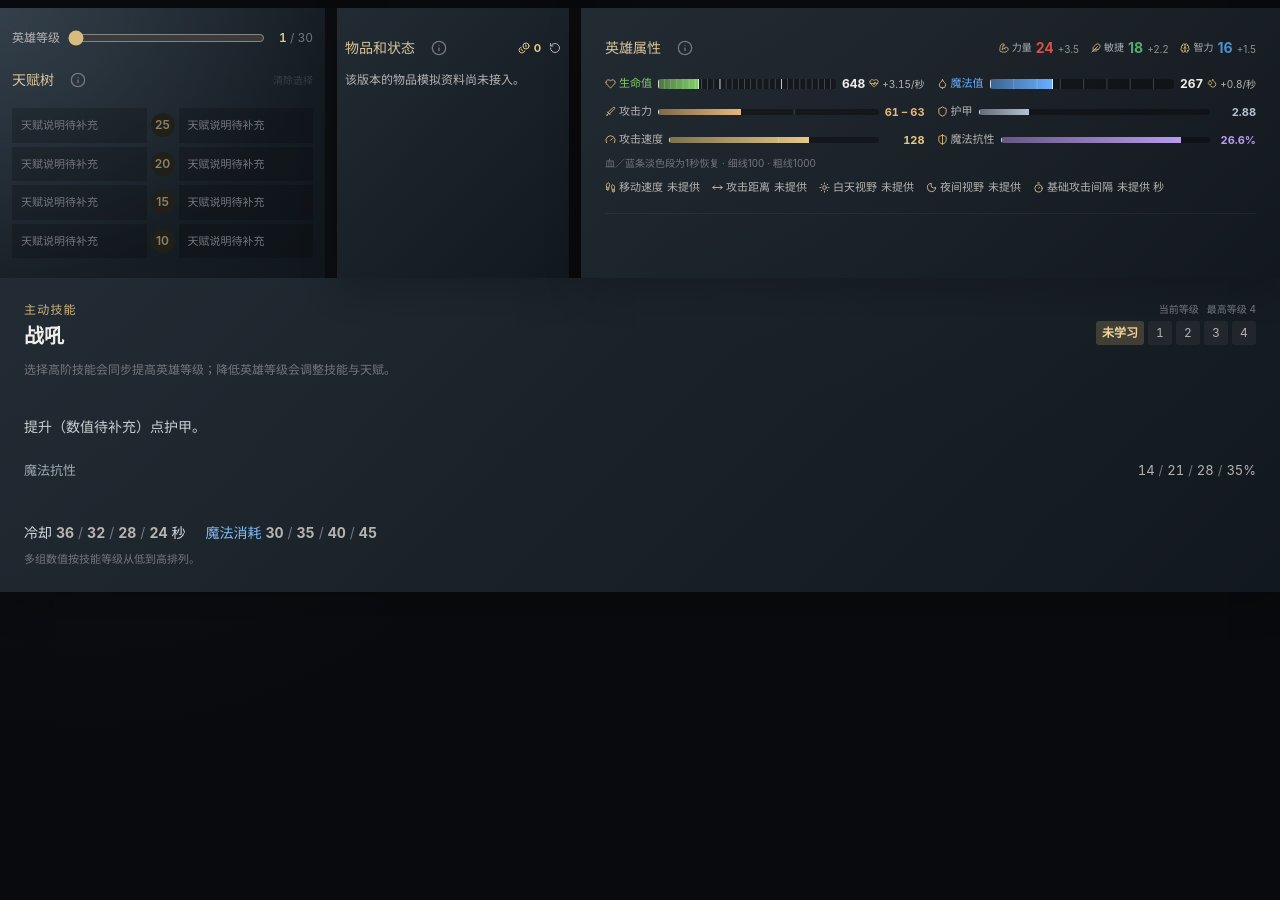
Test: keeps all ranks visible while shared levels and permanent stats change in both directions
Expected: the element showing "14 / 21 / 28 / 35%" is shown, [1138,461,1256,480]
Click the radio button labelled "4" at (1244, 333), box [1232,321,1256,345]
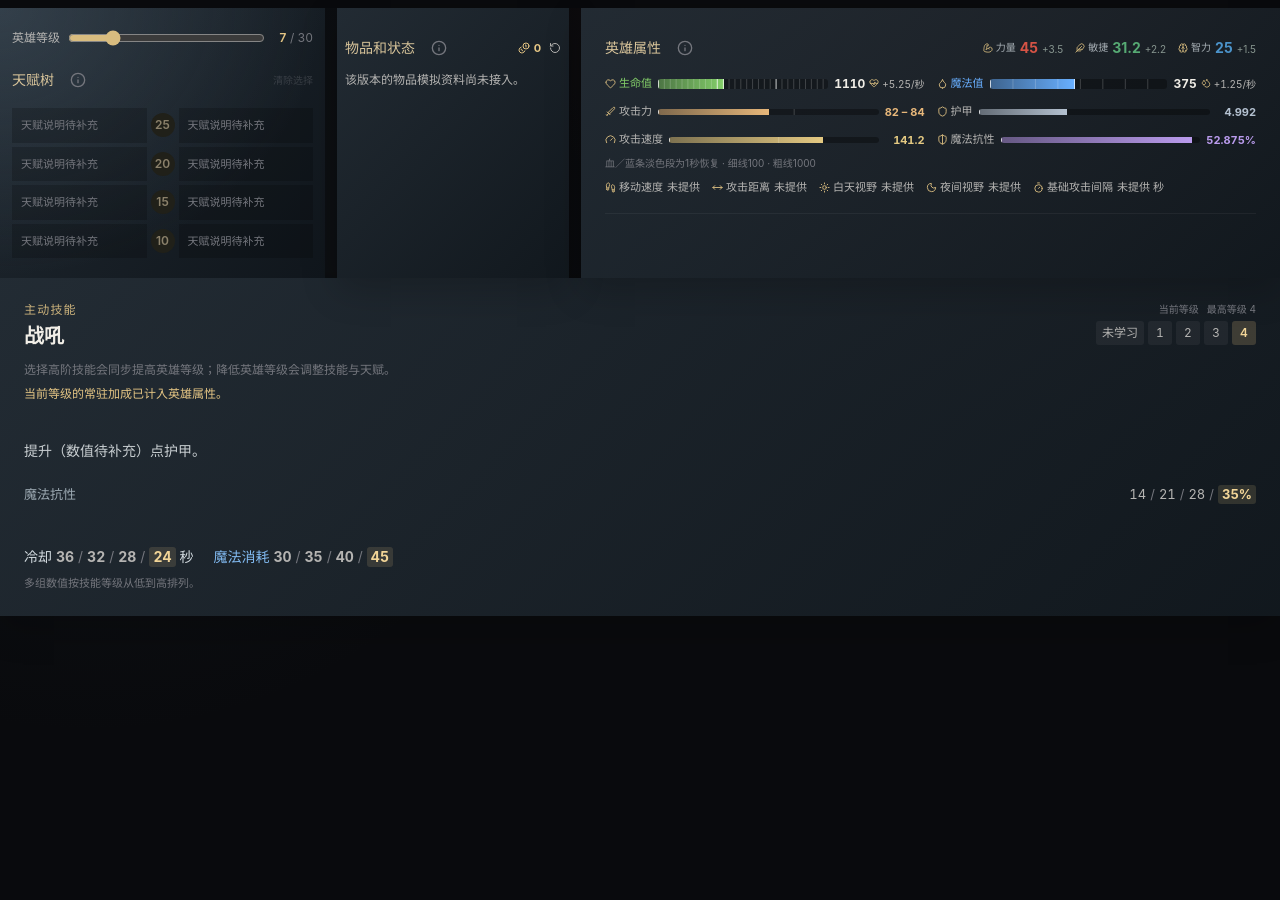
Expected: the text "35%" is shown, [1218,485,1256,504]
Expected: the slider holds "7"
Expected: the text "52.875%" is shown, [1206,132,1256,148]
Set the slider to "1" at (76, 38), box [68,28,265,48]
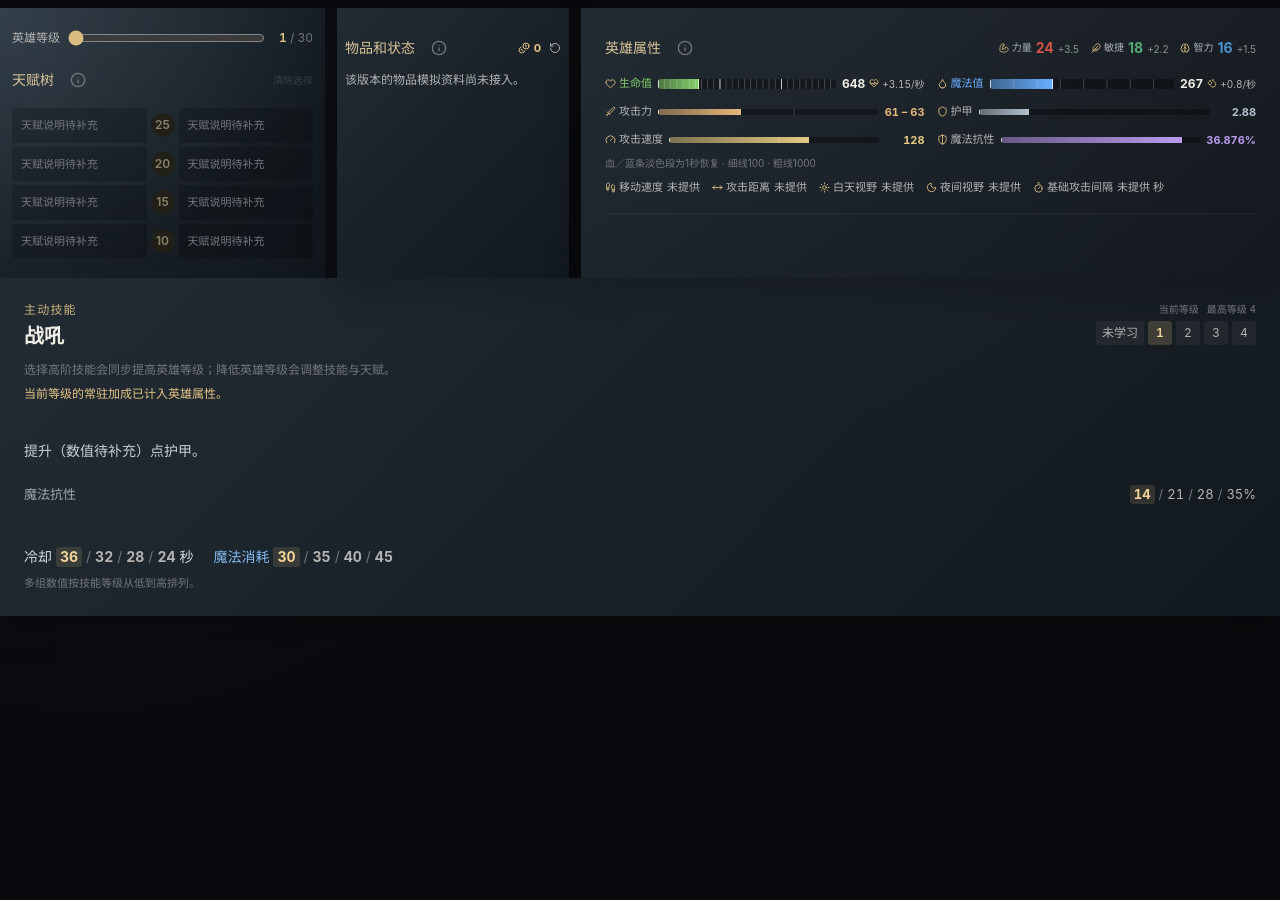
Expected: the text "14" is shown, [1130,485,1155,504]
Expected: the text "36.876%" is shown, [1206,132,1256,148]
Click the radio button labelled "未学习" at (1120, 333), box [1096,321,1144,345]
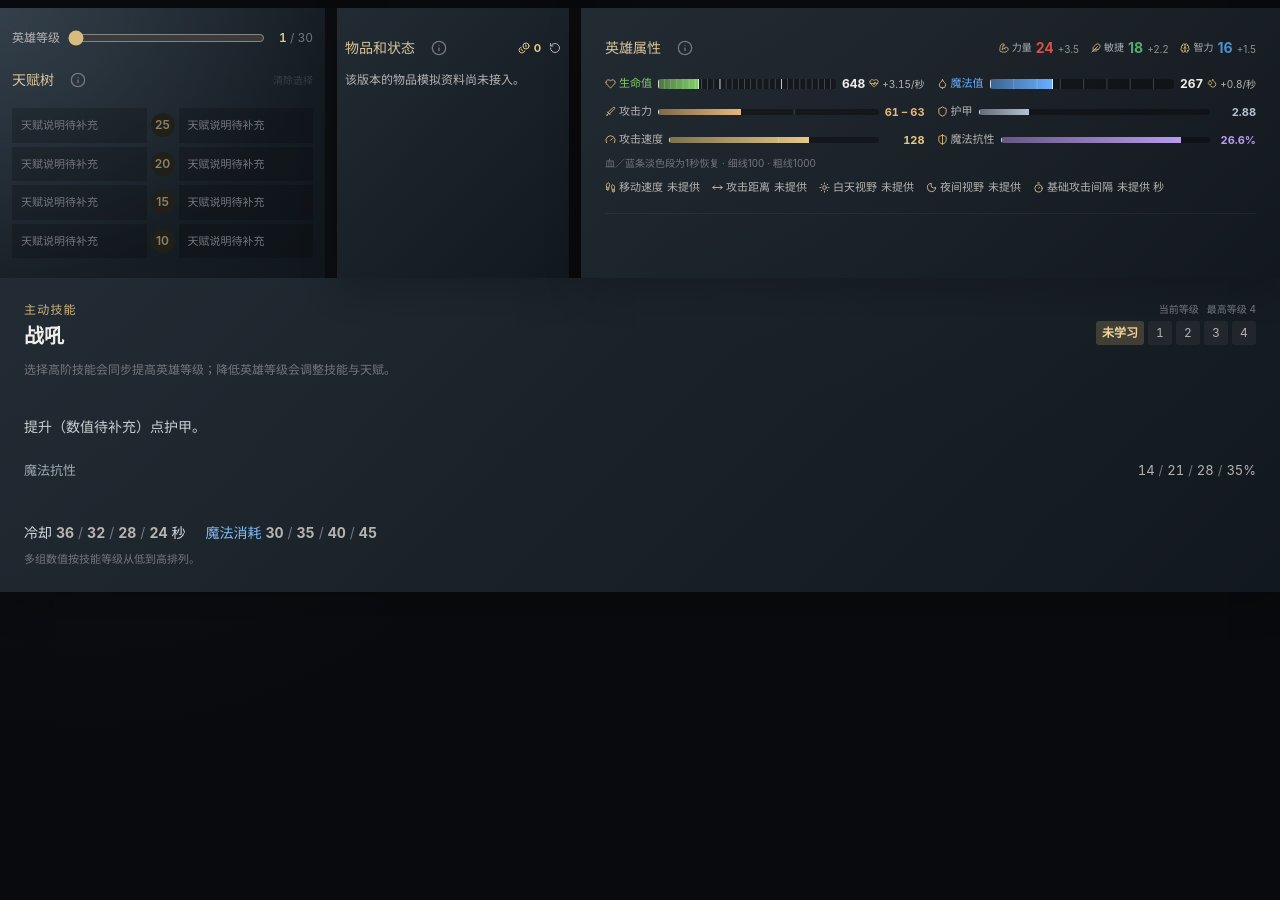
Expected: the text "26.6%" is shown, [1216,132,1256,148]
